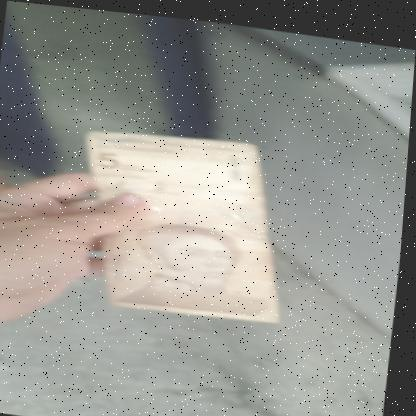five-front-vef: (72, 118, 300, 324)
